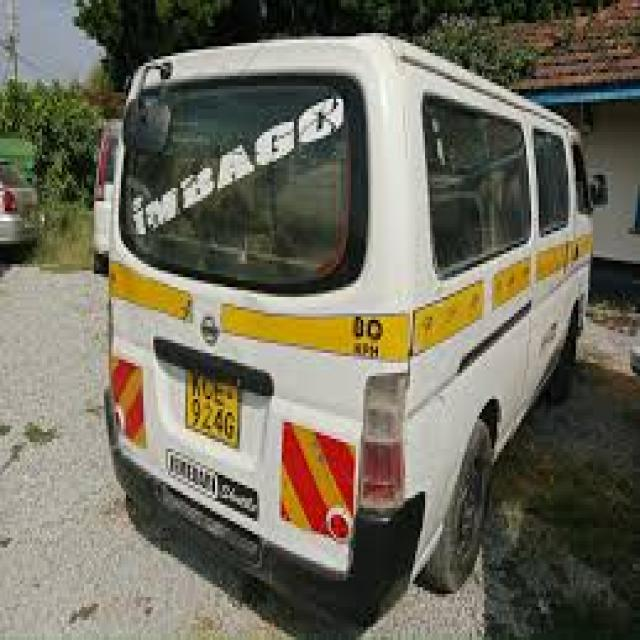matatu: (75, 0, 626, 640)
